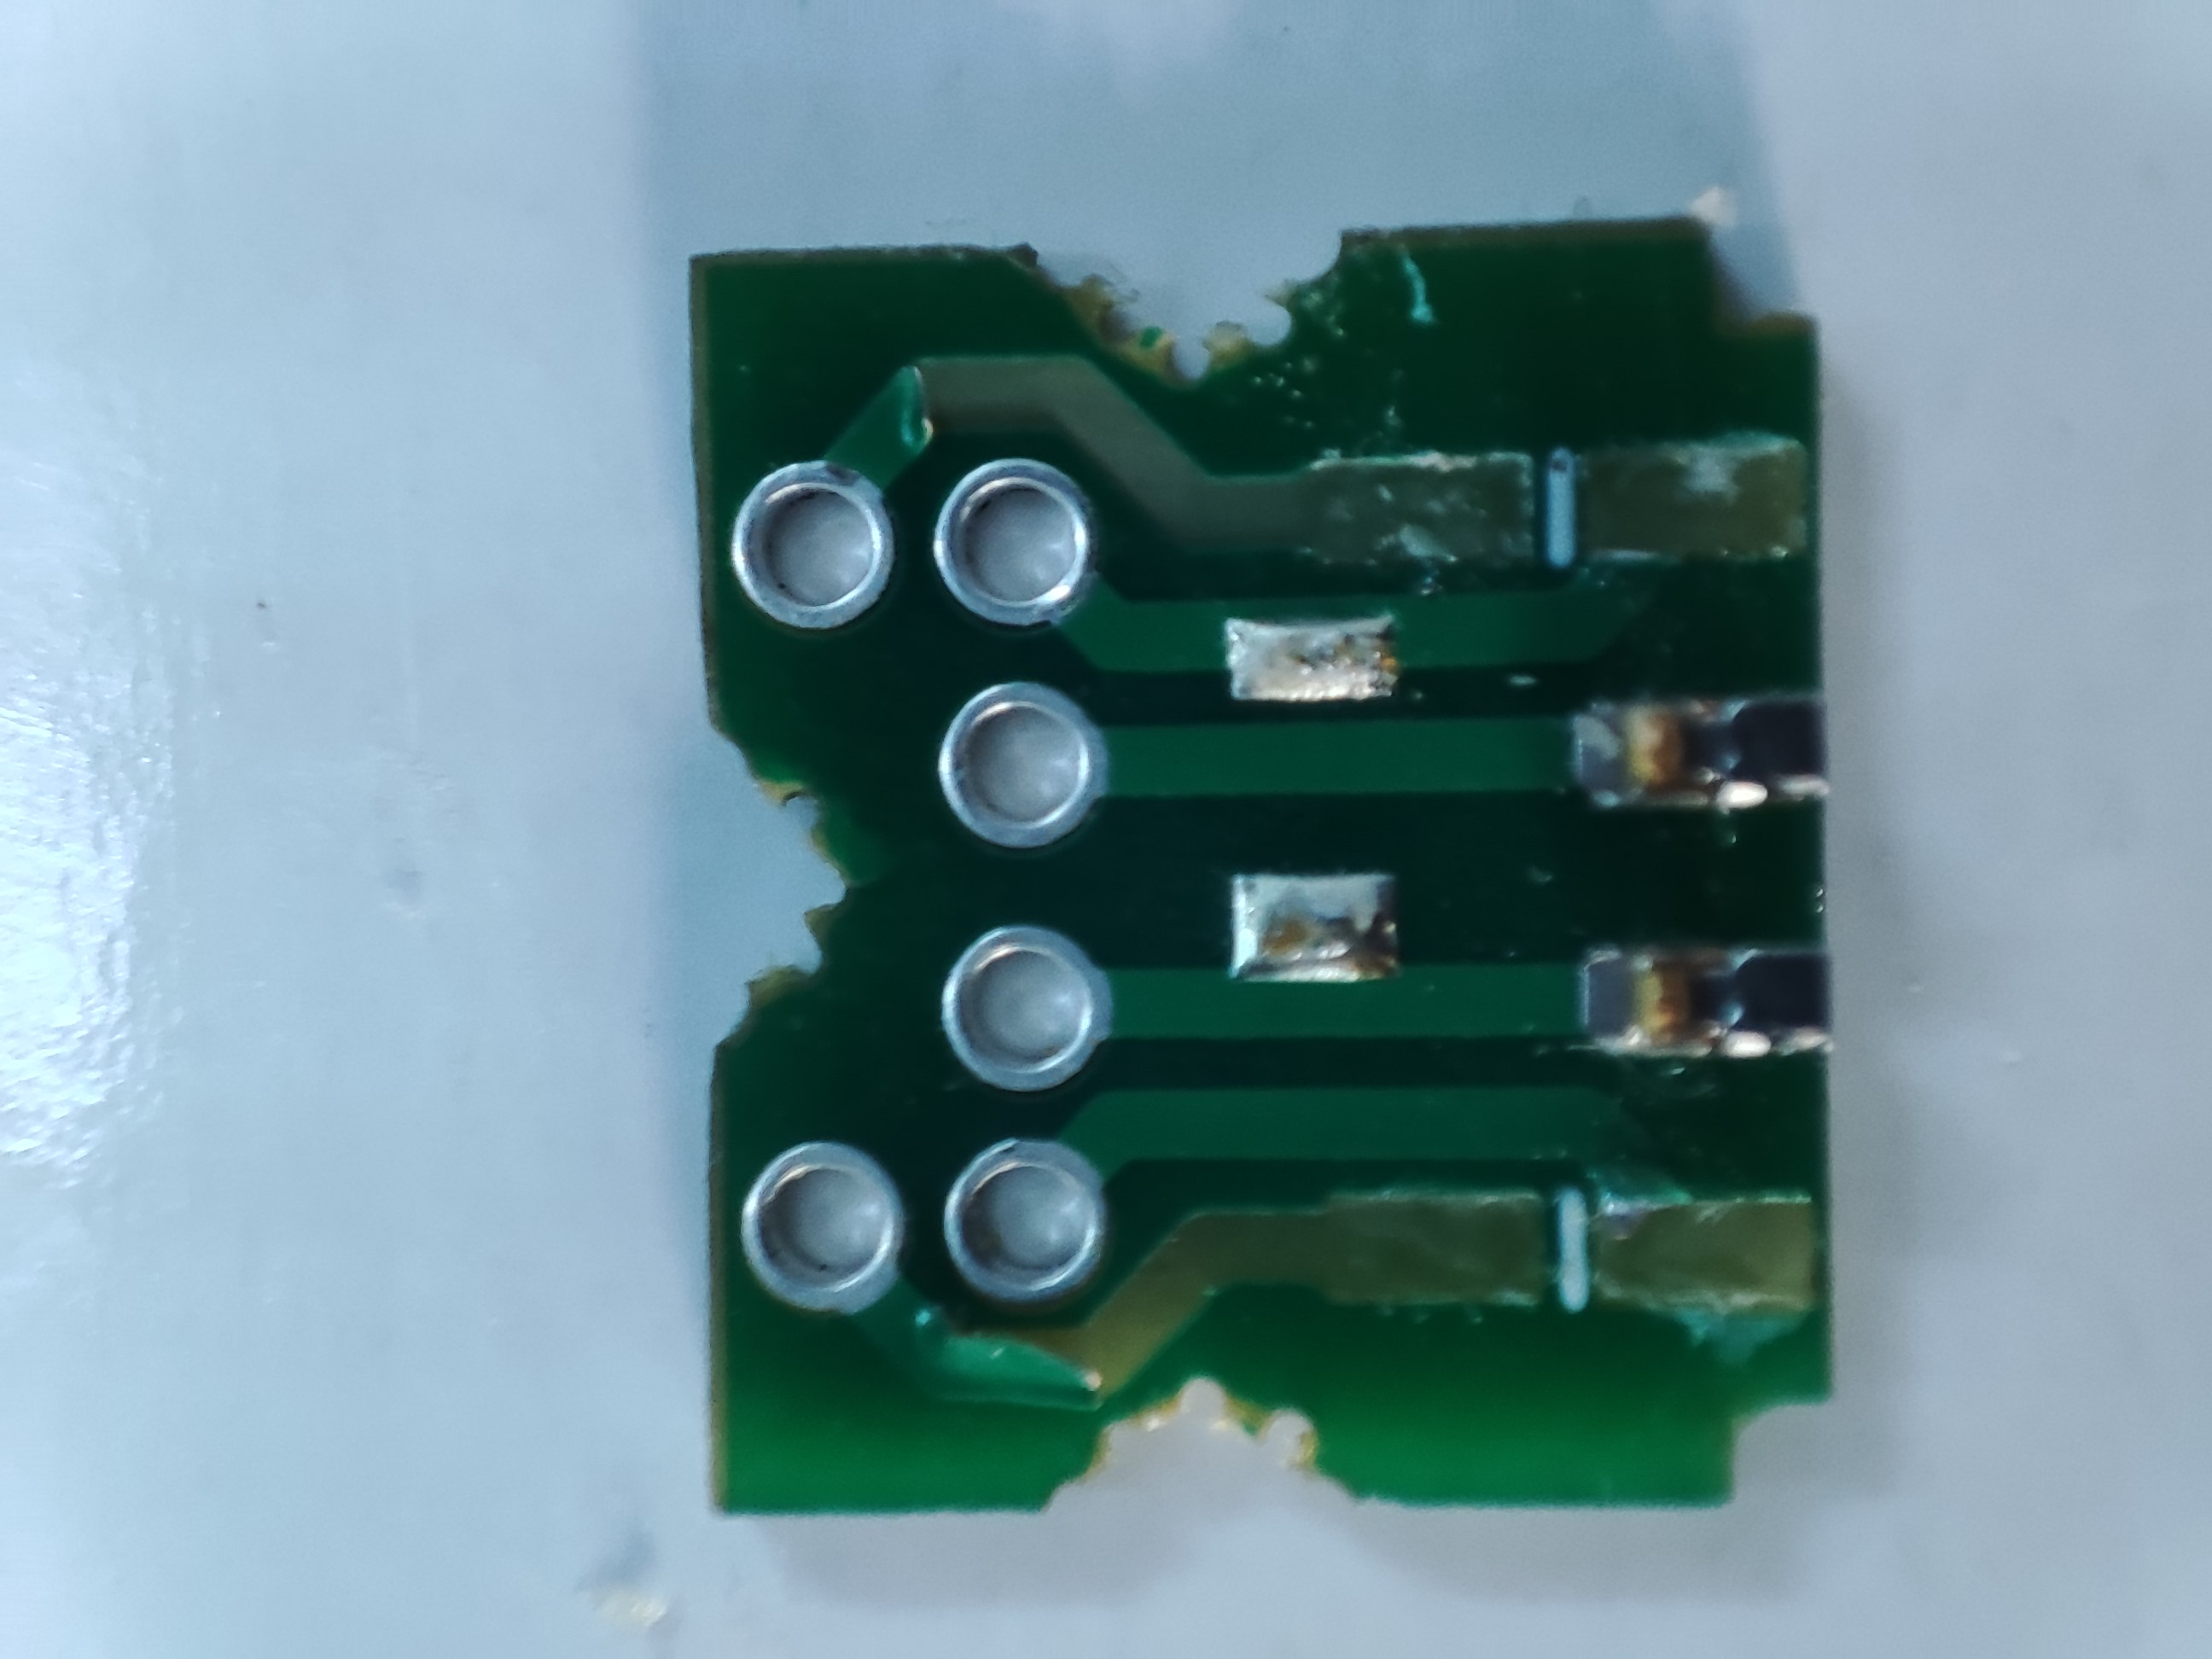PCB-MODEL-0: (648, 202, 1885, 1535)
defected-spring_finger: (1548, 437, 1824, 586), (1550, 1169, 1824, 1317), (1292, 1180, 1566, 1328), (1285, 443, 1559, 589)
normal-spring_finger: (1538, 673, 1844, 829), (1547, 929, 1853, 1086)
normal-through: (928, 455, 1109, 626), (927, 680, 1108, 850), (925, 925, 1106, 1096), (941, 1140, 1122, 1310), (728, 1150, 909, 1321), (728, 457, 911, 622)
